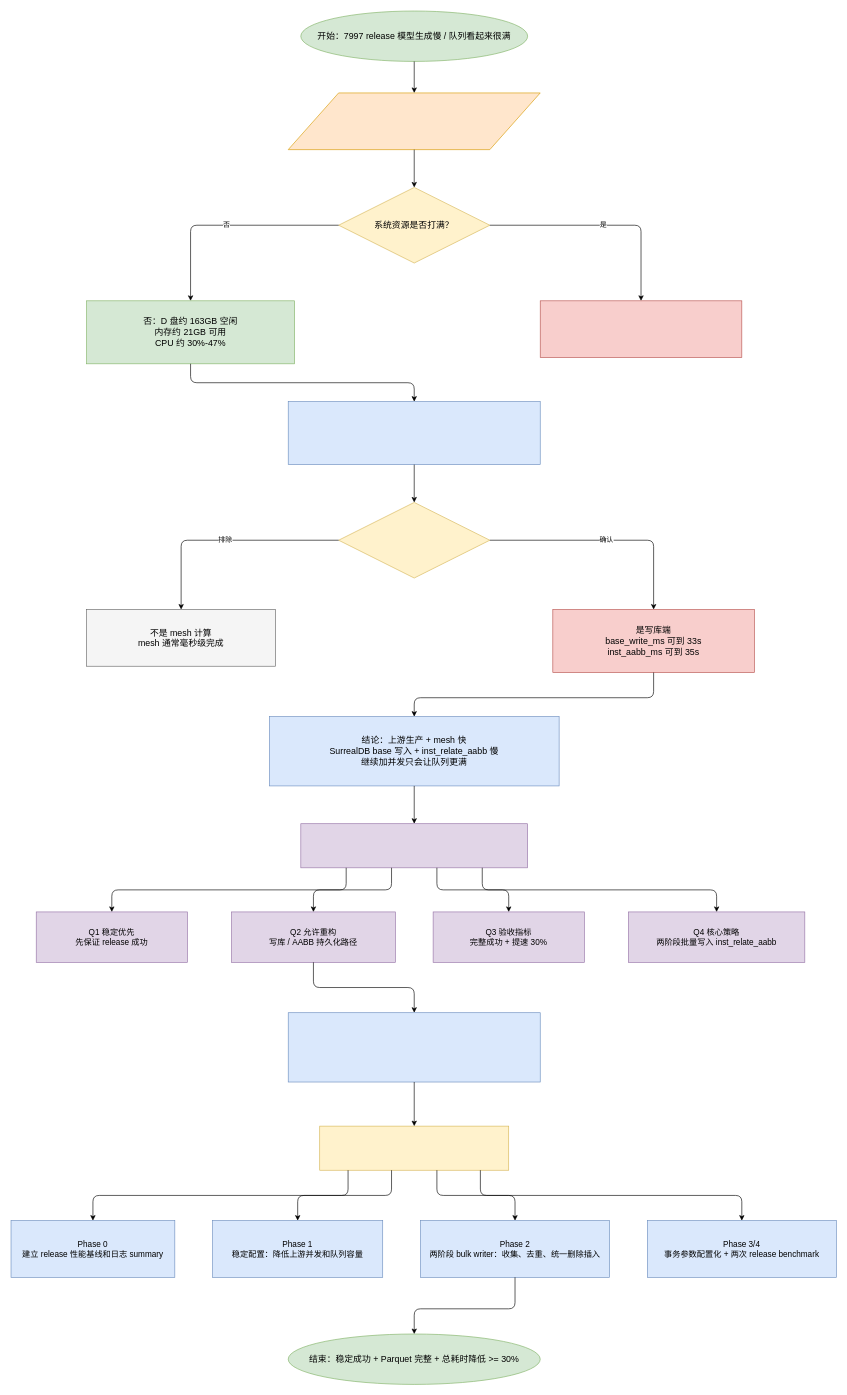
This 847x1395 diagram has some shape labels left out. The centre of each missing label's shape, as x and y in pixels:
"grill-me 决策树" goes at [414,845].
"后续实施路线" goes at [414,1147].
"定位内部流水线背压 pending_mesh_outputs 长期贴近 108 producer send_wait_ms 秒级" goes at [414,433].
"收集现场证据 日志 / 进程 / CPU 内存磁盘 / Parquet 产物 / 配置" goes at [414,121].
"是：先处理机器资源问题 （本次证据不支持此分支）" goes at [641,329].
"瓶颈在哪个阶段？" goes at [414,540].
"落地 spec kit spec.md：需求与验收 plan.md：阶段方案 tasks.md：小步任务" goes at [414,1047].
